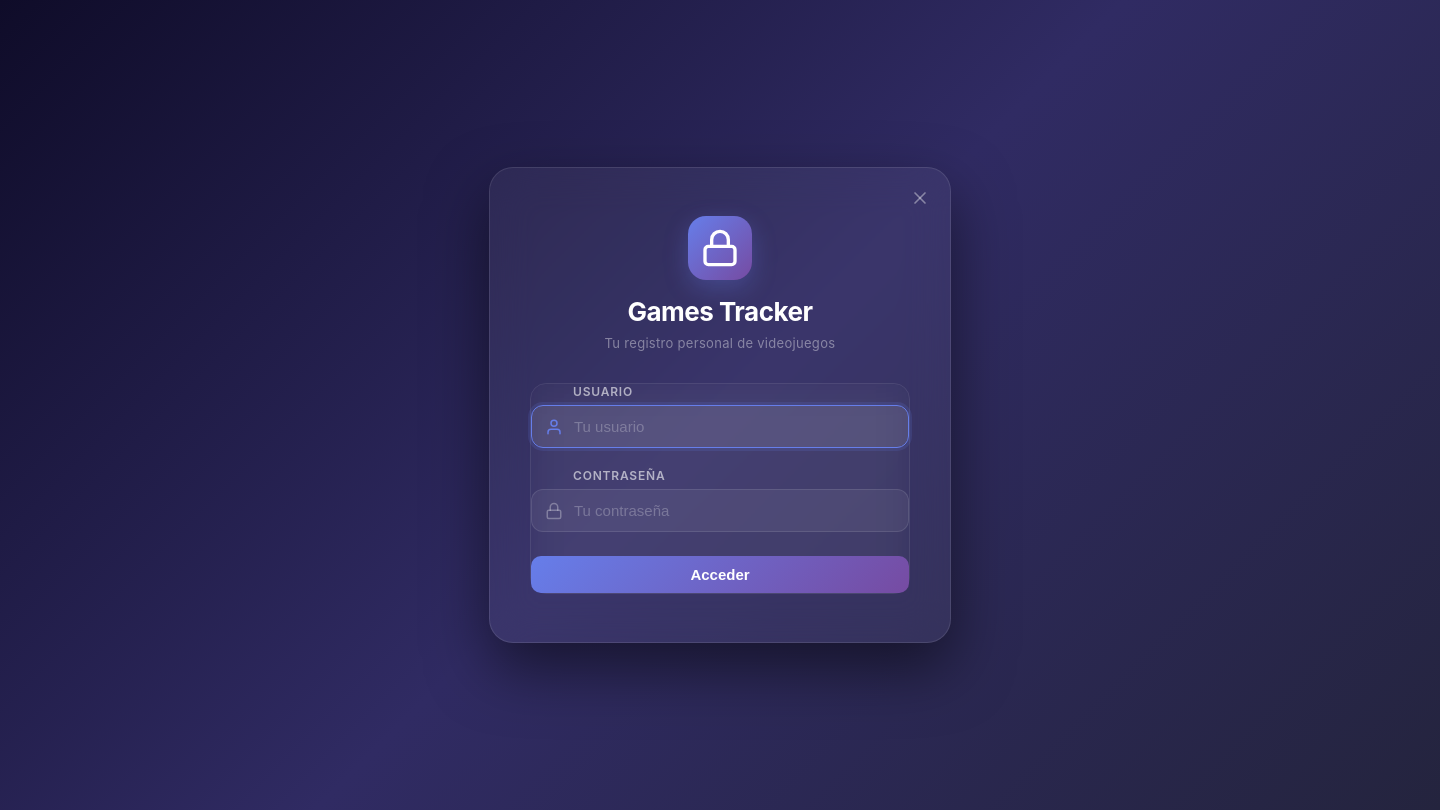
it: shows loading state while submitting
Type "testuser" into the field labelled "Usuario" at (720, 426), box [531,405,909,448]
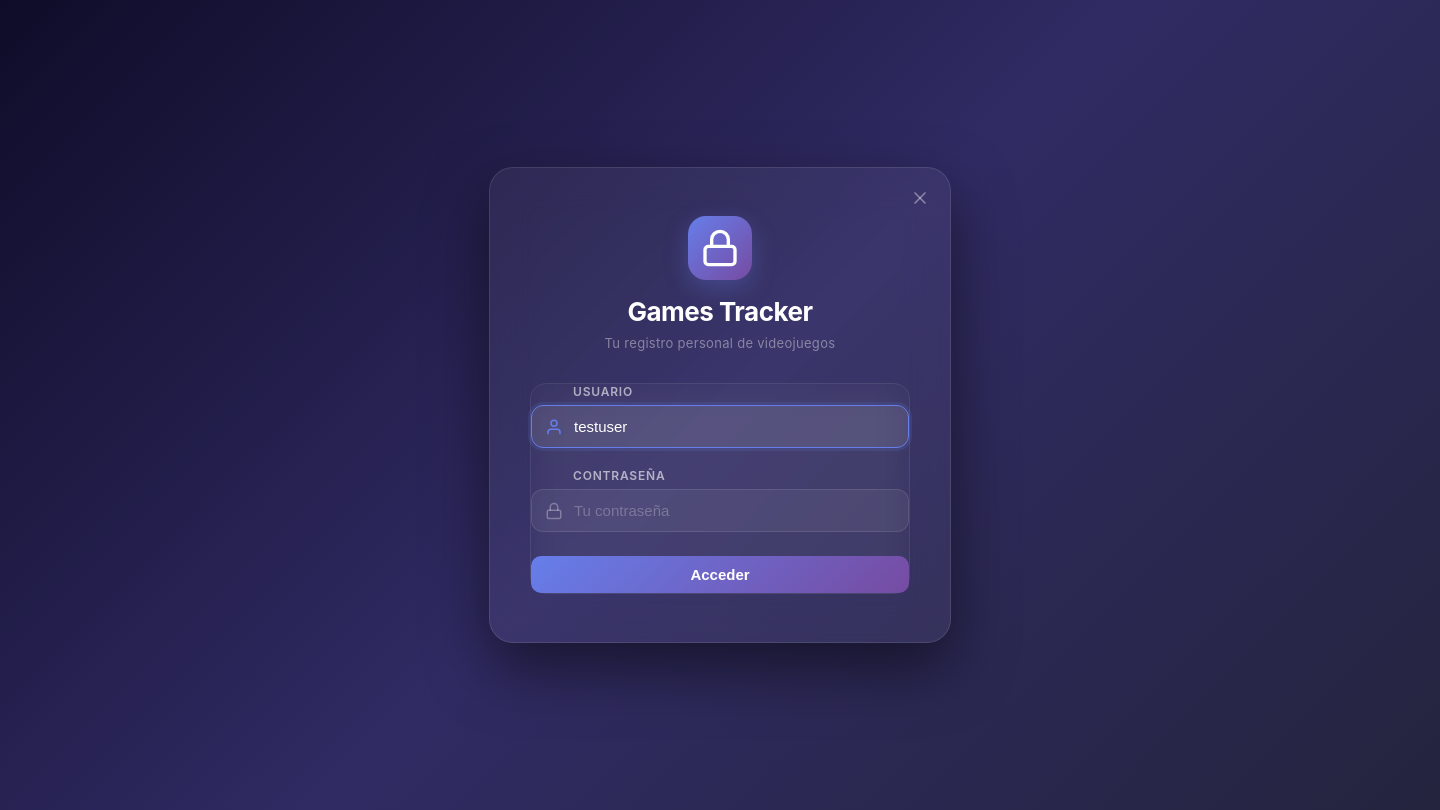
Type "testpass" into the password field labelled "Contraseña" at (720, 510), box [531,489,909,532]
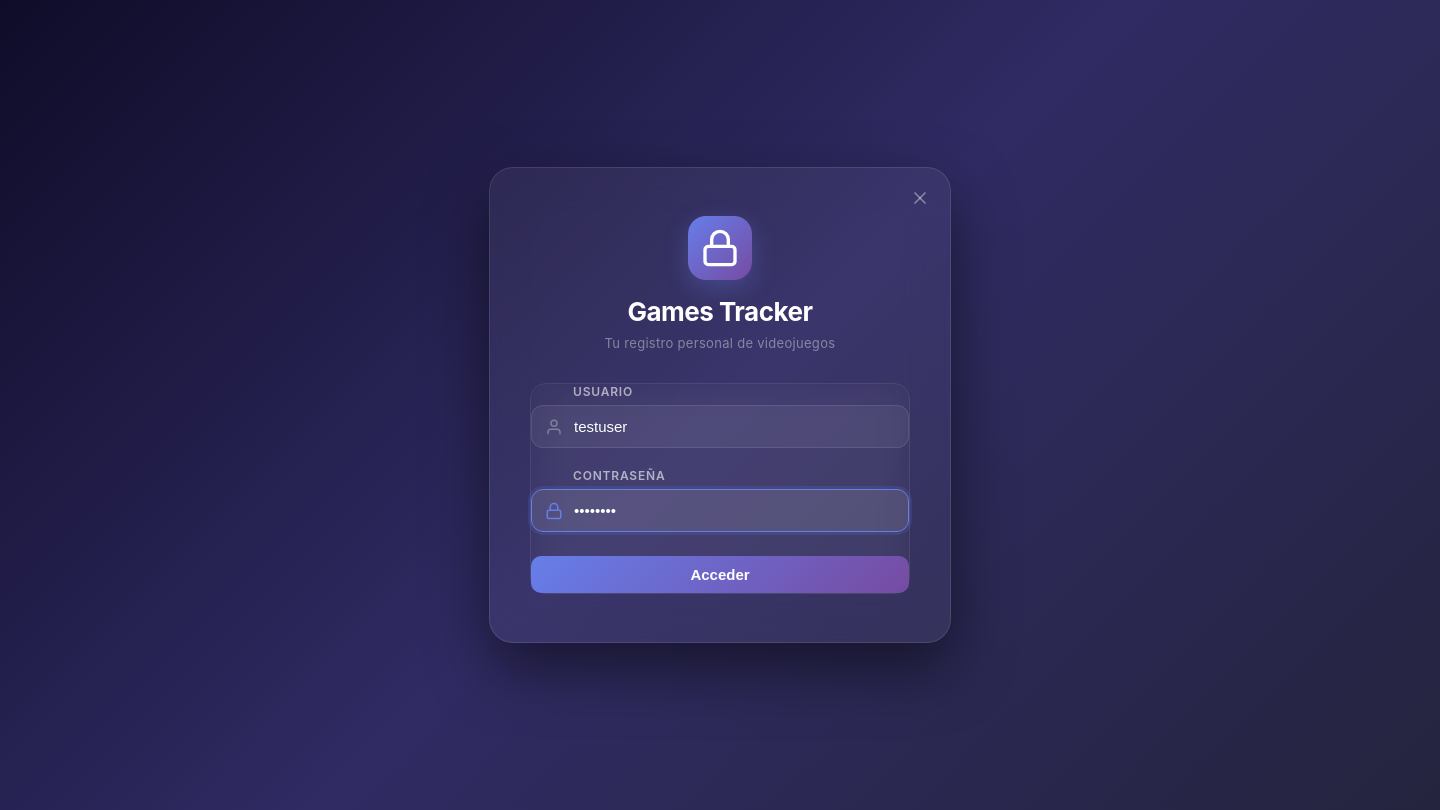
Click the button "Acceder" at (720, 574), box [531,556,909,593]
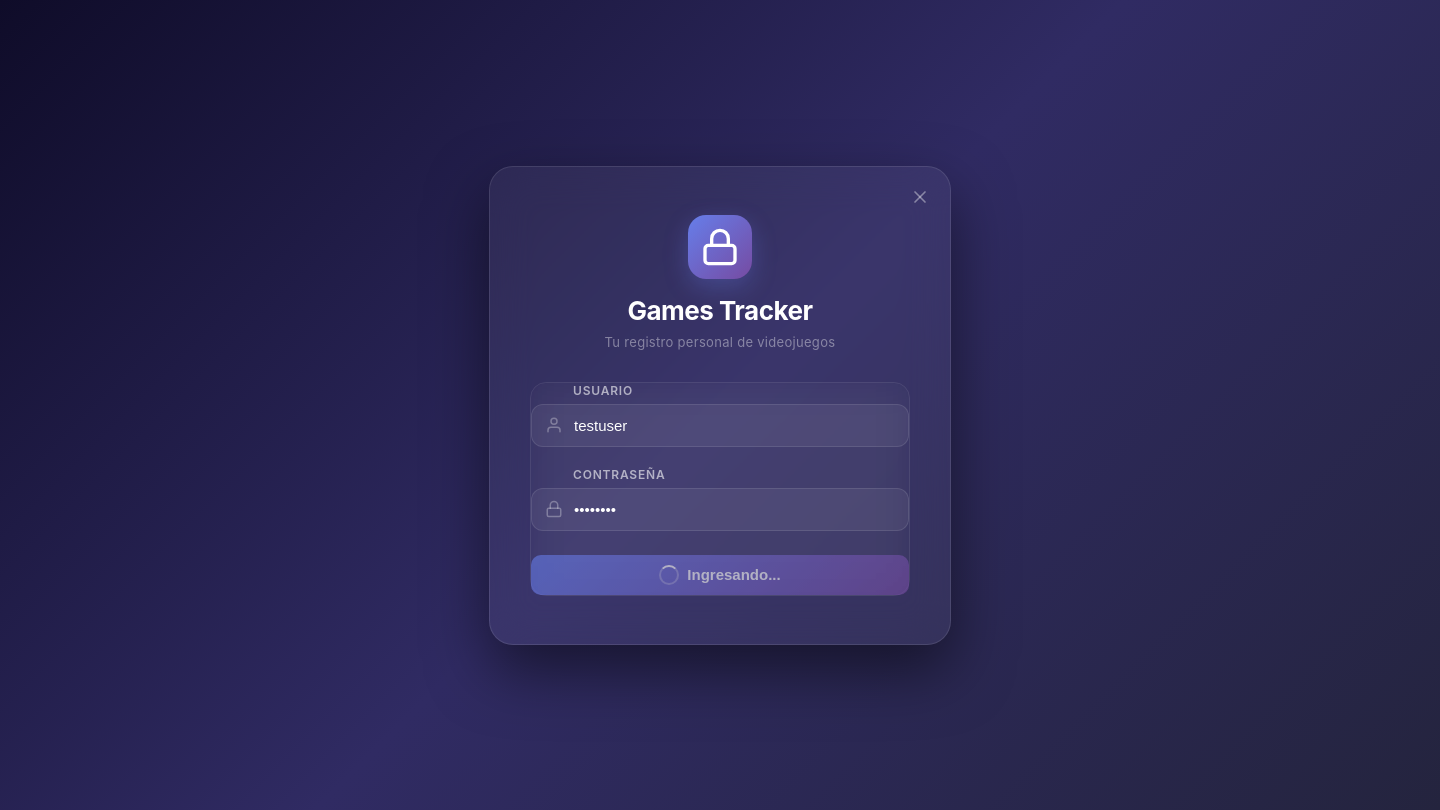
Now the button "Ingresando..." is shown, box [659,564,781,584]
